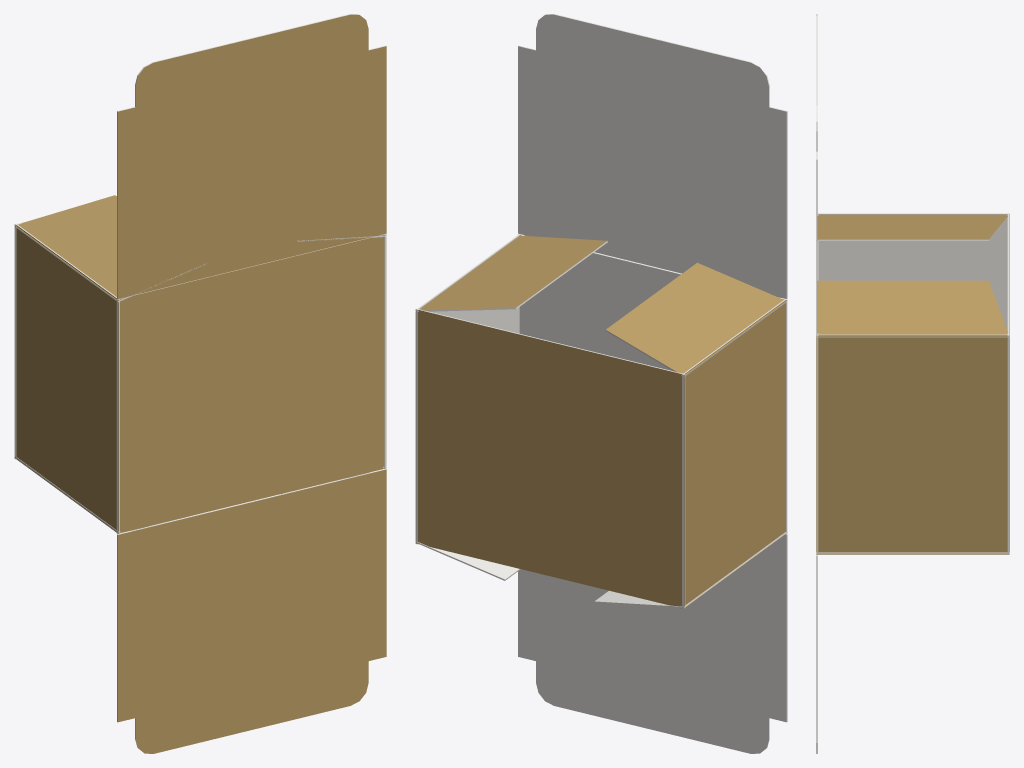
3 renders of one model, left to right at view 1: azimuth 30°, elevation 25°; view 2: azimuth 150°, elevation 25°; view 3: azimuth 270°, elevation 25°, orthographic. The views are drawn at different scales.
Visible parts, largest first — view 1: Packive_Box_fefco0210; view 2: Packive_Box_fefco0210; view 3: Packive_Box_fefco0210.
Boxes of the visible parts, bbox=[...] form: Packive_Box_fefco0210: bbox=[14, 14, 386, 753]; Packive_Box_fefco0210: bbox=[415, 14, 787, 753]; Packive_Box_fefco0210: bbox=[816, 14, 1009, 753].
Bounding box in the file's own units: 0.3 × 0.7375 × 0.2.
24 materials, 12 textured.
